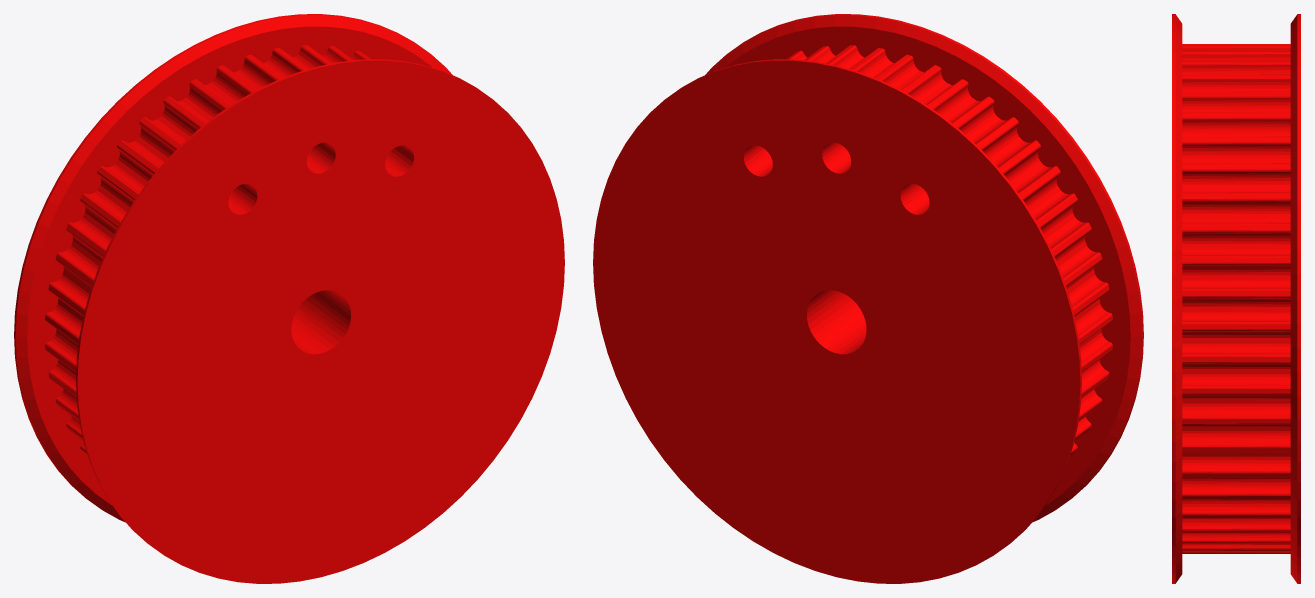
The model's file is legs_1_left_leg_1_ankle_pulley_48t_1.glb.
3 views of the same model, side by side, from view 1: azimuth 30°, elevation 25°; view 2: azimuth 150°, elevation 25°; view 3: azimuth 270°, elevation 25° (orthographic).
Parts seen in each view (by area): view 1: legs_1_left_leg_1_ankle_pulley_48t_1.obj; view 2: legs_1_left_leg_1_ankle_pulley_48t_1.obj; view 3: legs_1_left_leg_1_ankle_pulley_48t_1.obj.
Part boxes in pixels (left/top/right/bottom): legs_1_left_leg_1_ankle_pulley_48t_1.obj: left=14, top=14, right=564, bottom=583; legs_1_left_leg_1_ankle_pulley_48t_1.obj: left=593, top=14, right=1143, bottom=583; legs_1_left_leg_1_ankle_pulley_48t_1.obj: left=1172, top=14, right=1300, bottom=583.
Bounding box in the file's own units: 0.0841 × 0.0841 × 0.019.
